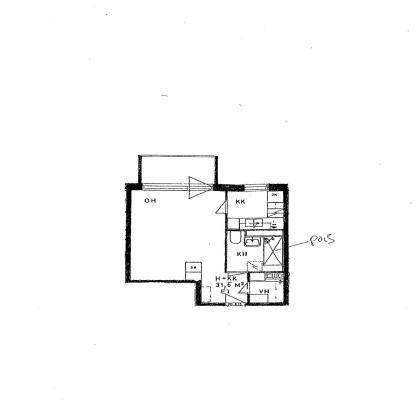door: (186, 175, 215, 201), (222, 292, 247, 309), (214, 200, 228, 217), (237, 281, 252, 294), (224, 271, 247, 279)
window: (139, 182, 189, 192), (242, 182, 271, 193)
